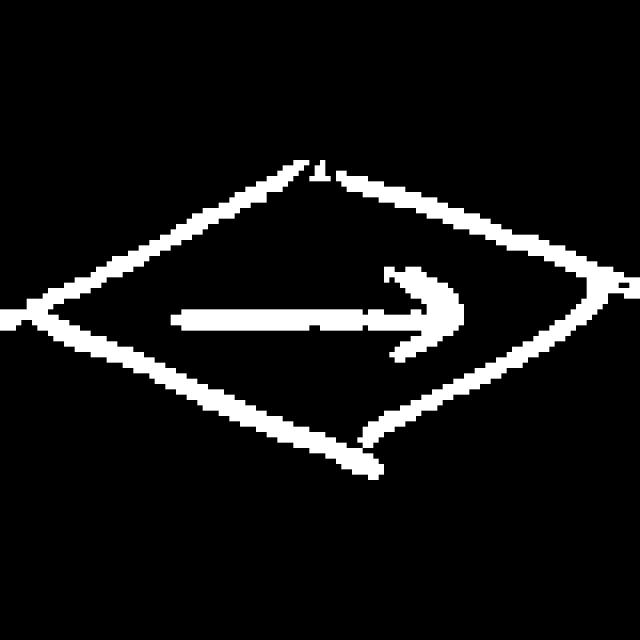dependant_current: (26, 146, 605, 489)
